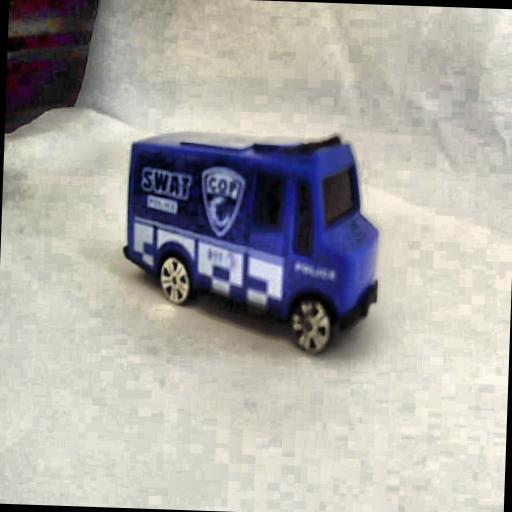police car: (114, 126, 386, 351)
